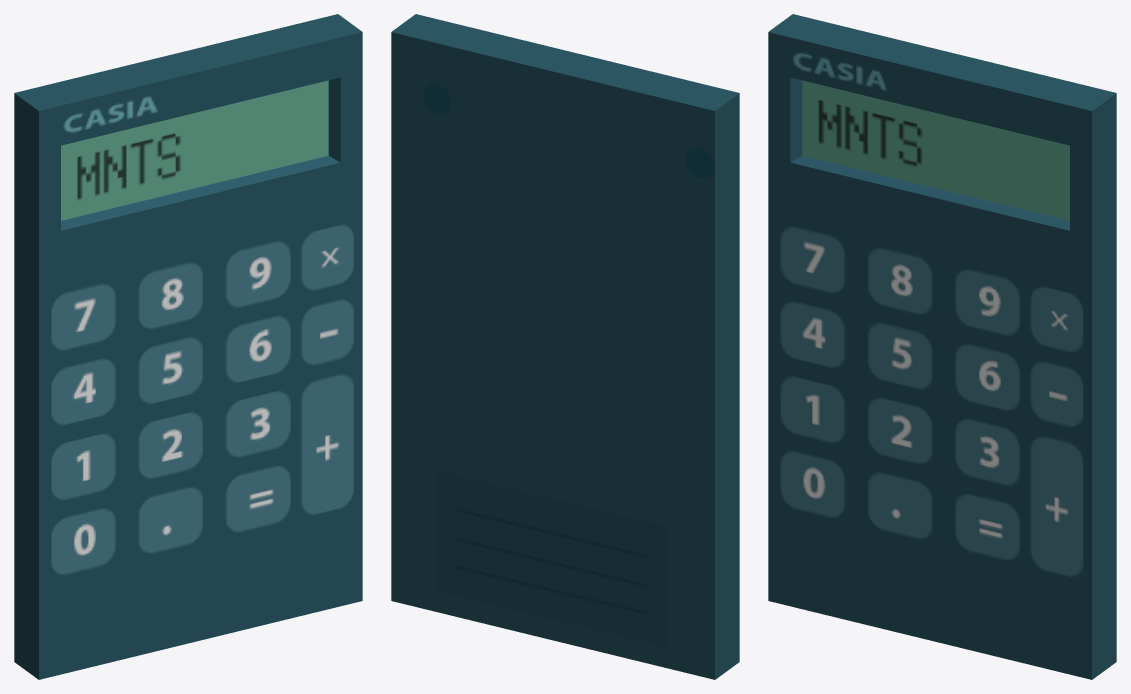
Rendered from Calculator.FBX.
3 views of the same model, side by side, from view 1: azimuth 30°, elevation 25°; view 2: azimuth 150°, elevation 25°; view 3: azimuth 330°, elevation 25° (orthographic).
Parts seen in each view (by area): view 1: Calculadora; view 2: Calculadora; view 3: Calculadora.
Boxes of the visible parts, x1,y1,x2,y2 form: Calculadora: [14, 14, 362, 679]; Calculadora: [391, 14, 739, 679]; Calculadora: [768, 14, 1116, 679].
Size of the model in its own units: 22.48 by 2.97 by 37.73.
1 material, 1 textured.
